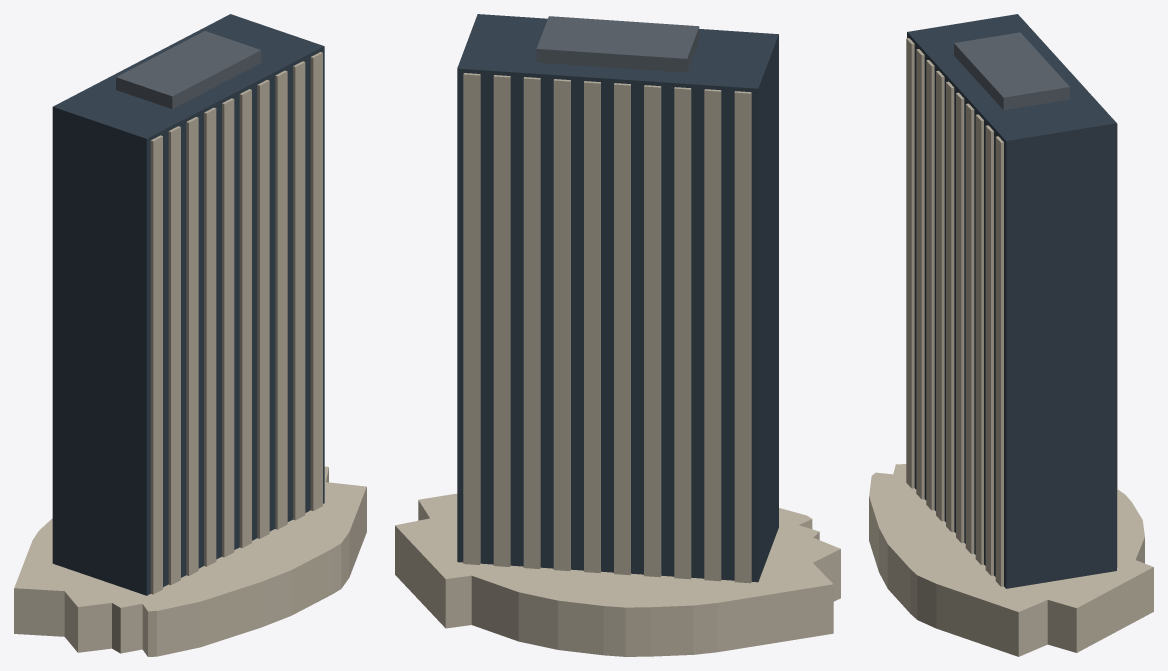
The model's file is james-monroe-building.glb.
The picture shows the model from 3 angles, left to right: view 1: azimuth 30°, elevation 25°; view 2: azimuth 150°, elevation 25°; view 3: azimuth 270°, elevation 25°; orthographic projection. The views are drawn at different scales.
Visible parts, largest first — view 1: tower, body, james-monroe-building_22, james-monroe-building_8, james-monroe-building_16, james-monroe-building_6, james-monroe-building_14, james-monroe-building_2, james-monroe-building_4, james-monroe-building_10, james-monroe-building_12, james-monroe-building_18 (+1 smaller); view 2: tower, body, james-monroe-building_5, james-monroe-building_7, james-monroe-building_3, james-monroe-building_9, james-monroe-building_15, james-monroe-building_17, james-monroe-building_19, james-monroe-building_21, james-monroe-building_11, james-monroe-building_13 (+1 smaller); view 3: tower, body, james-monroe-building_22, james-monroe-building_14, james-monroe-building_2, james-monroe-building_4, james-monroe-building_6, james-monroe-building_8, james-monroe-building_10, james-monroe-building_12, james-monroe-building_16, james-monroe-building_18 (+2 smaller).
Part boxes in pixels (x1,y1,x2,y2): tower: (52,14,324,595); body: (14,466,366,656); james-monroe-building_22: (116,31,261,109); james-monroe-building_8: (204,107,216,566); james-monroe-building_16: (275,70,287,529); james-monroe-building_6: (186,117,198,575); james-monroe-building_14: (257,80,269,538); james-monroe-building_2: (150,135,162,594); james-monroe-building_4: (168,126,180,585); james-monroe-building_10: (222,98,234,557); james-monroe-building_12: (239,89,251,547); james-monroe-building_18: (293,61,305,520); tower: (457,14,778,582); body: (395,493,840,656); james-monroe-building_5: (704,89,721,581); james-monroe-building_7: (674,87,691,579); james-monroe-building_3: (734,91,751,583); james-monroe-building_9: (644,85,661,577); james-monroe-building_15: (553,79,570,570); james-monroe-building_17: (523,77,540,568); james-monroe-building_19: (493,75,510,566); james-monroe-building_21: (463,73,480,564); james-monroe-building_11: (614,83,630,575); james-monroe-building_13: (584,81,600,572); tower: (907,14,1116,588); body: (869,464,1153,656); james-monroe-building_22: (954,32,1069,110); james-monroe-building_14: (965,103,974,553); james-monroe-building_2: (906,38,914,488); james-monroe-building_4: (916,49,924,499); james-monroe-building_6: (926,60,934,510); james-monroe-building_8: (936,70,944,521); james-monroe-building_10: (946,81,954,532); james-monroe-building_12: (956,92,964,543); james-monroe-building_16: (975,114,983,564); james-monroe-building_18: (985,125,993,575).
Size of the model in its own units: 106 by 141 by 72.03.
